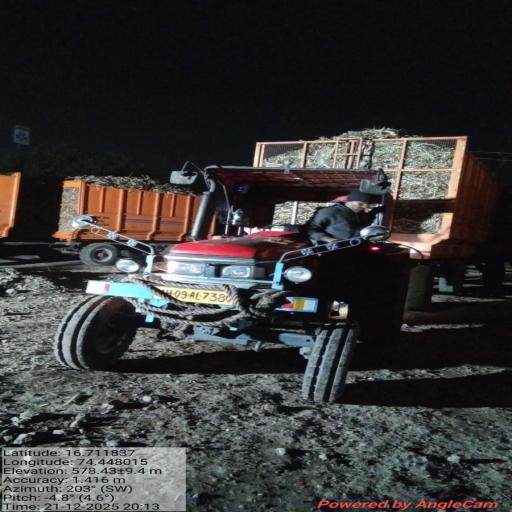number_plate: (159, 287, 233, 305)
